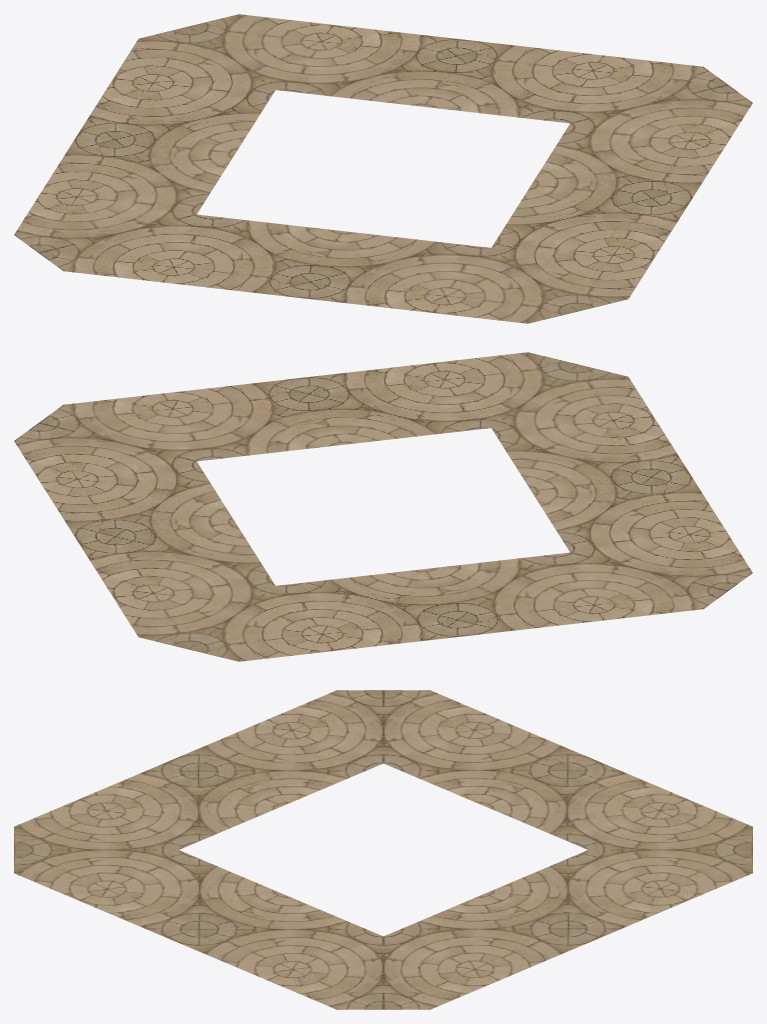
Rendered from Ground01_Build_LostTemple_002.FBX.
The picture shows the model from 3 angles, top to bottom: view 1: azimuth 30°, elevation 25°; view 2: azimuth 150°, elevation 25°; view 3: azimuth 270°, elevation 25°; orthographic projection. The views are drawn at different scales.
Parts seen in each view (by area): view 1: Ground01_Build_LostTemple_002; view 2: Ground01_Build_LostTemple_002; view 3: Ground01_Build_LostTemple_002.
Part boxes in pixels (x1,y1,x2,y2): Ground01_Build_LostTemple_002: (14, 14, 752, 323); Ground01_Build_LostTemple_002: (14, 352, 752, 661); Ground01_Build_LostTemple_002: (14, 690, 752, 1009).
Size of the model in its own units: 2164 by 9.25e-05 by 2116.
Materials: 1 (1 with a texture image).
